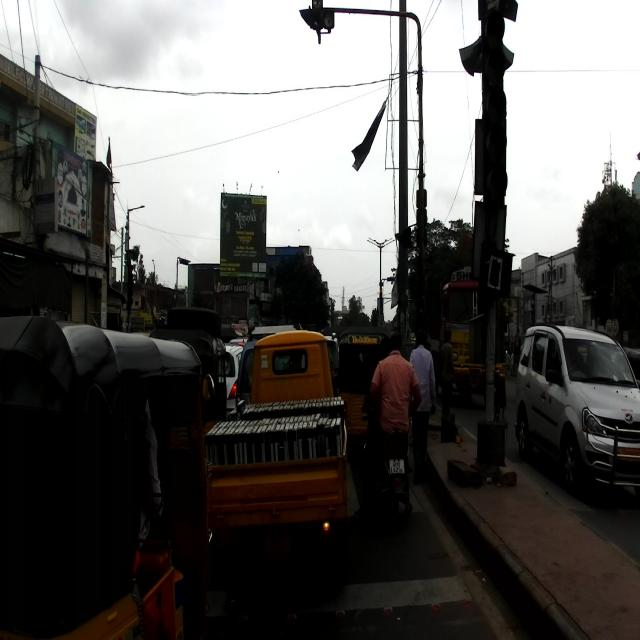Car_Mahindra: (514, 321, 639, 500)
autorickshaw: (0, 315, 216, 639), (203, 328, 349, 588), (150, 324, 229, 434), (336, 322, 386, 462)
